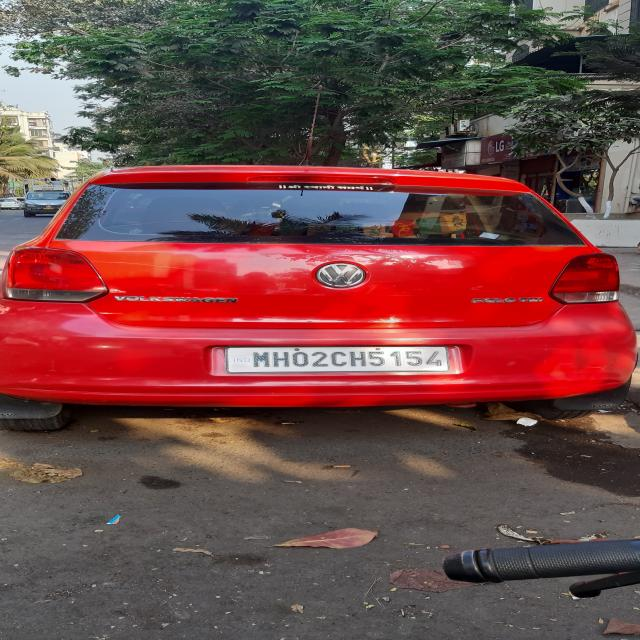Number-Plate: (230, 348, 450, 370)
